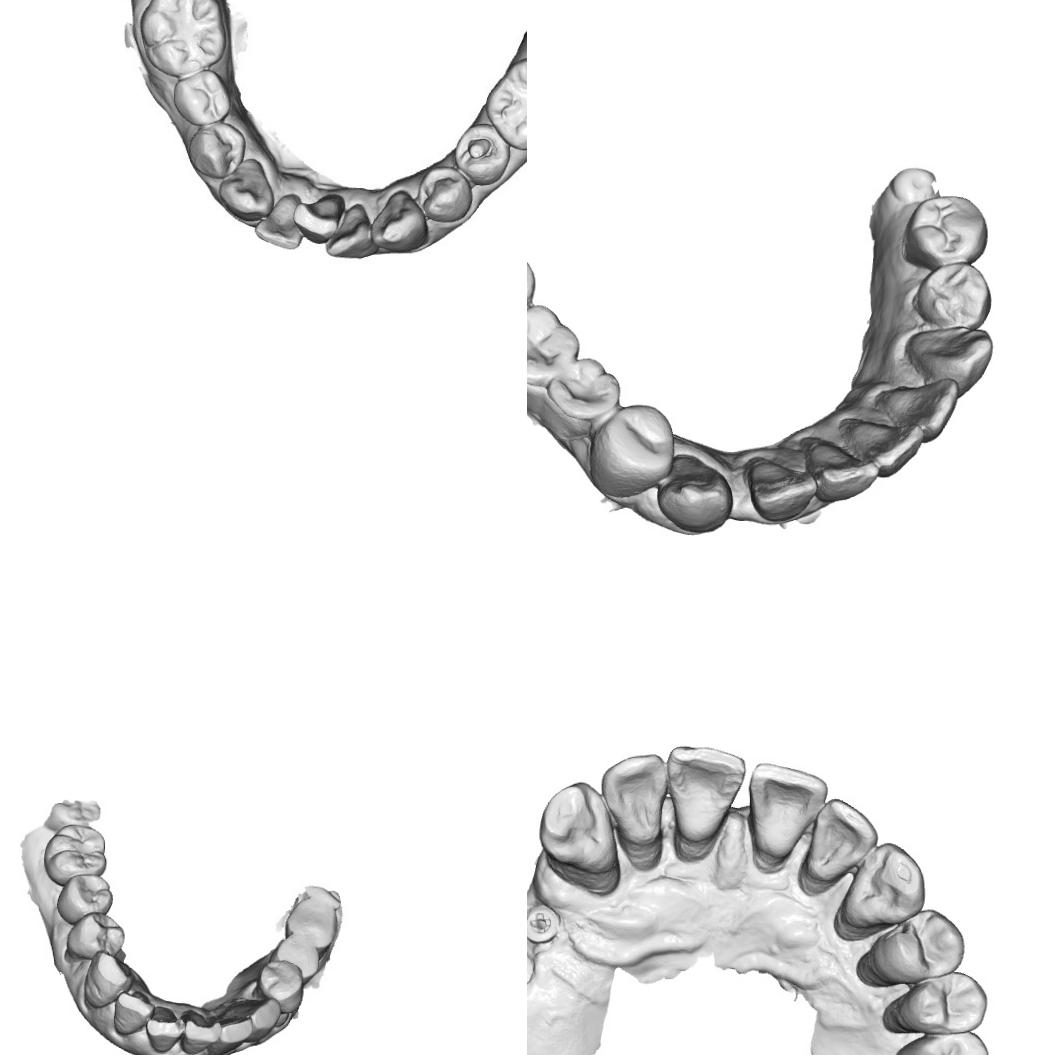canine: (538, 780, 618, 872), (848, 839, 926, 928), (657, 454, 733, 532), (907, 327, 991, 392), (368, 188, 429, 253), (80, 948, 134, 1011), (218, 158, 272, 220), (235, 998, 284, 1042)
implant: (892, 163, 938, 203), (527, 949, 541, 998)
implant_plus: (527, 901, 557, 949)
incisor: (746, 759, 829, 855), (665, 742, 746, 838), (800, 794, 878, 879), (598, 754, 667, 845), (846, 408, 919, 476), (750, 453, 818, 519), (816, 442, 883, 503), (892, 376, 954, 432), (252, 192, 308, 252), (324, 201, 378, 260), (290, 192, 346, 246), (112, 988, 156, 1038), (144, 1004, 184, 1054), (179, 1006, 219, 1055), (215, 1009, 253, 1055)
molar: (144, 0, 228, 77), (527, 299, 581, 390), (482, 54, 527, 153), (41, 823, 109, 887), (283, 894, 340, 954), (881, 1032, 991, 1055)
premolar: (870, 906, 963, 982), (594, 404, 672, 491), (898, 967, 992, 1037), (906, 195, 988, 266), (548, 355, 622, 432), (917, 259, 992, 330), (452, 121, 514, 188), (170, 66, 235, 127), (187, 119, 248, 179), (418, 163, 474, 223), (55, 872, 115, 925), (63, 910, 126, 960), (256, 958, 306, 1013), (269, 937, 320, 981)
